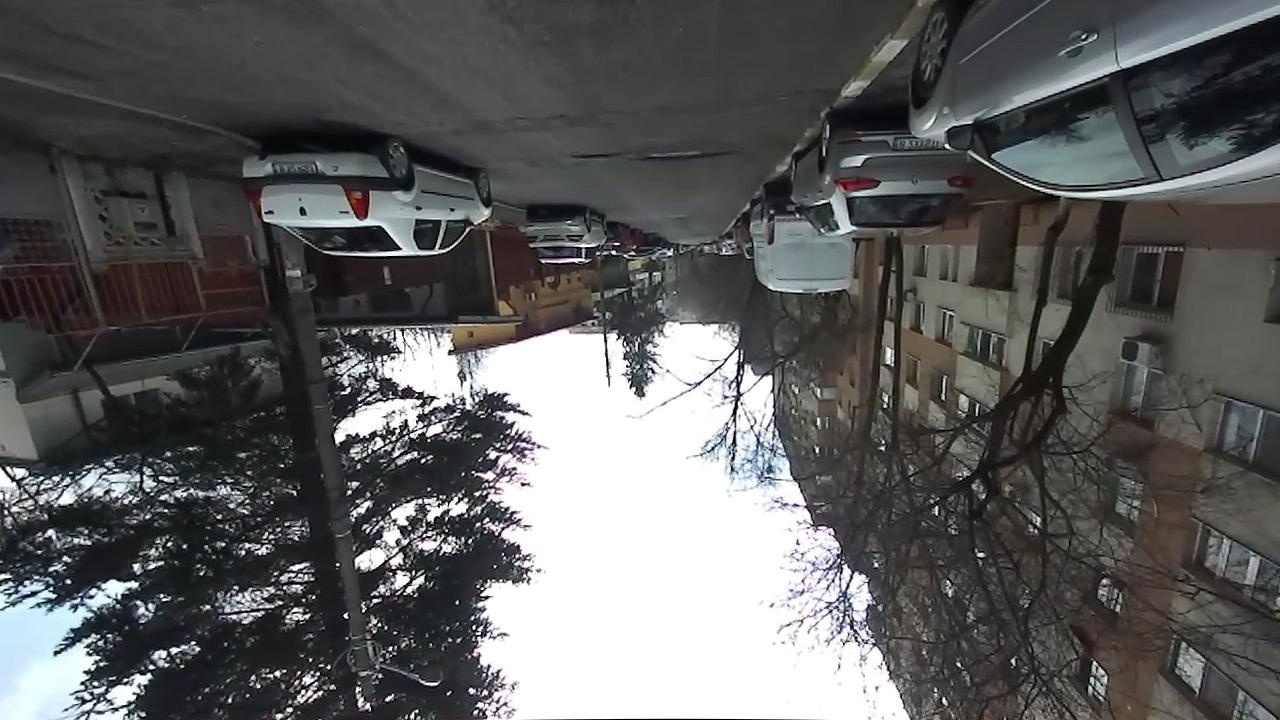pothole: (637, 144, 741, 164), (571, 149, 623, 161)
